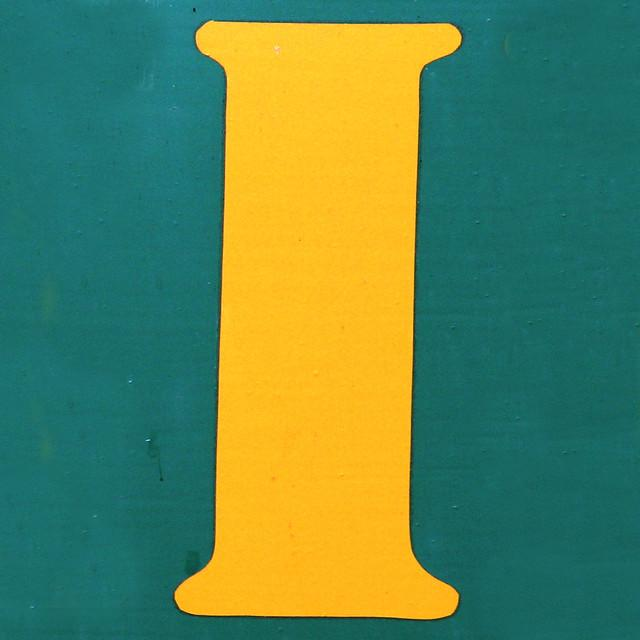I: (139, 4, 525, 632)
